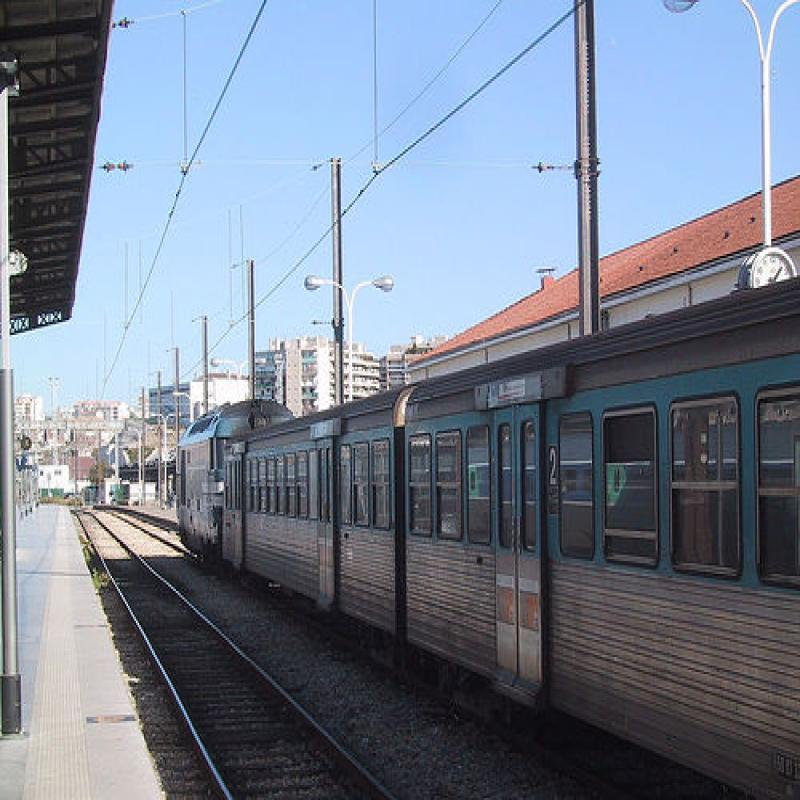train: (177, 274, 799, 799)
